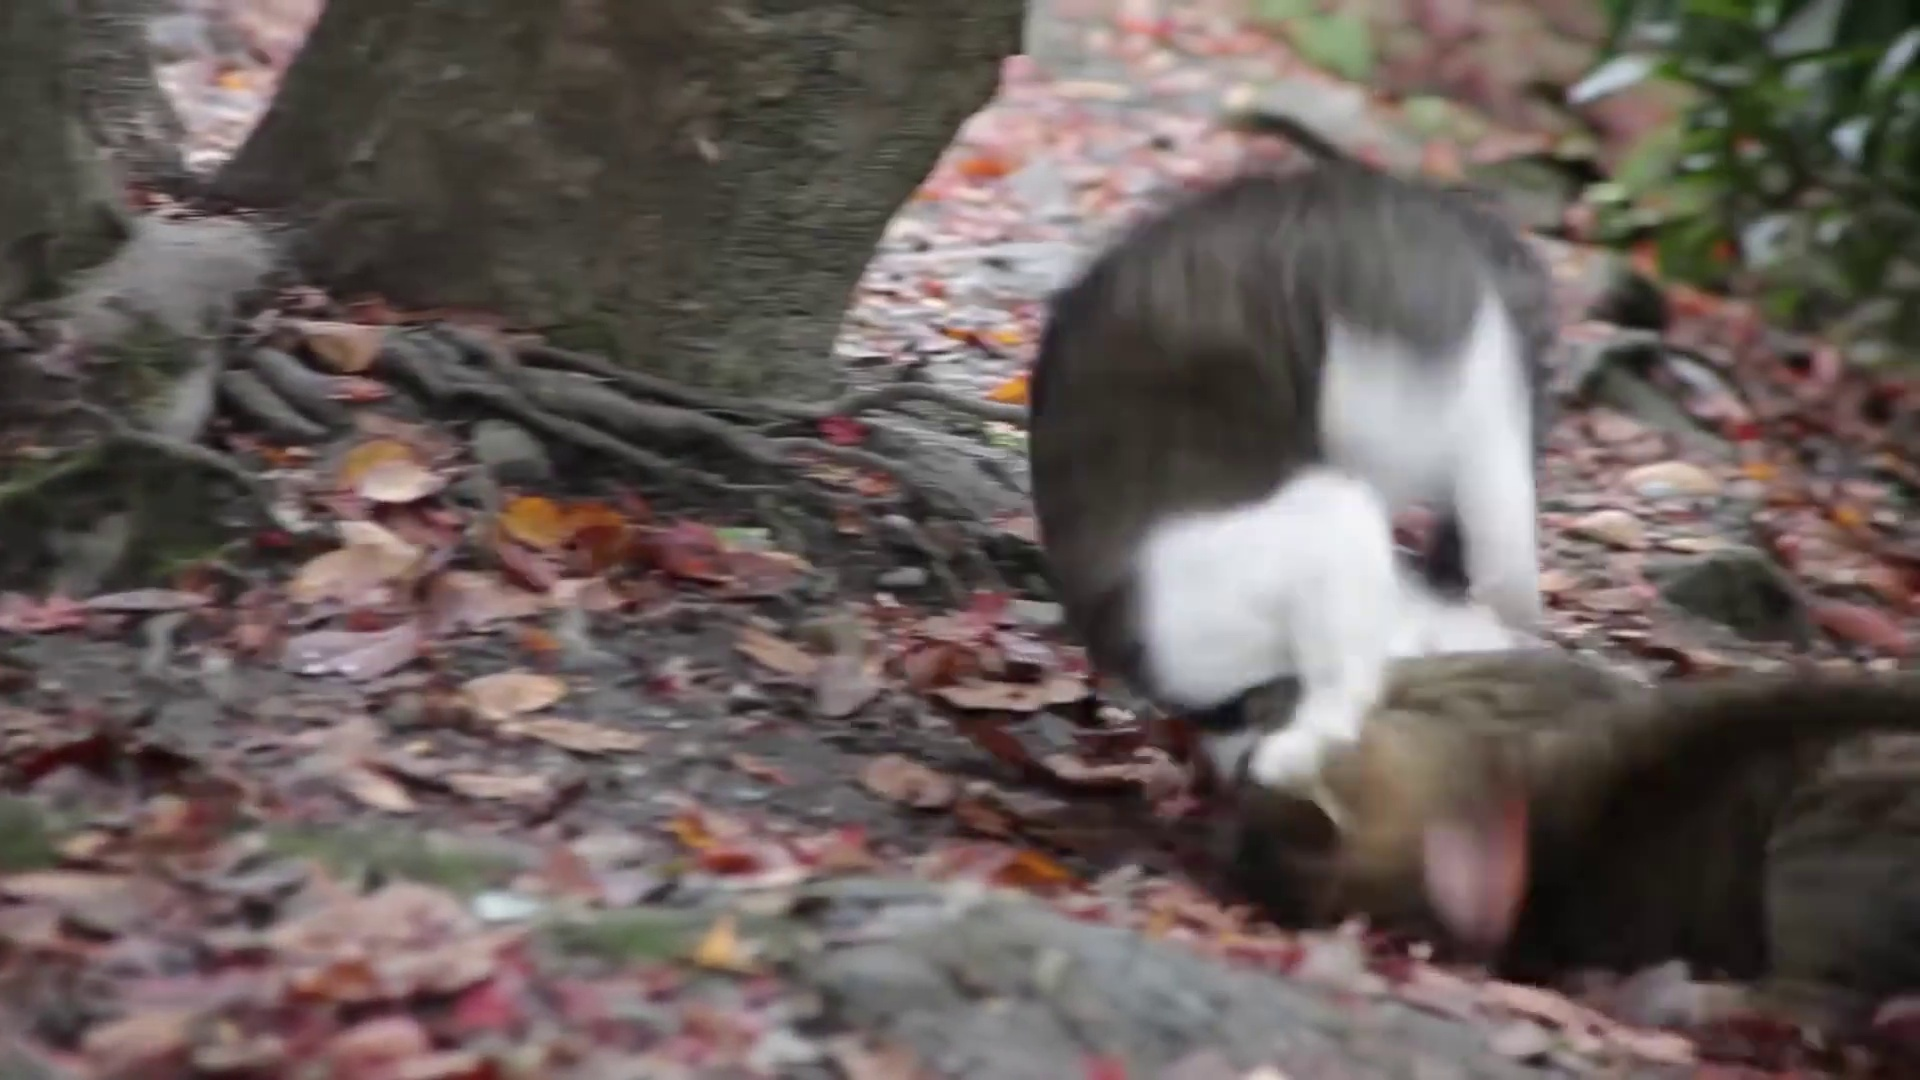black-white: (1031, 167, 1538, 785)
pure black: (1312, 651, 1920, 967)
